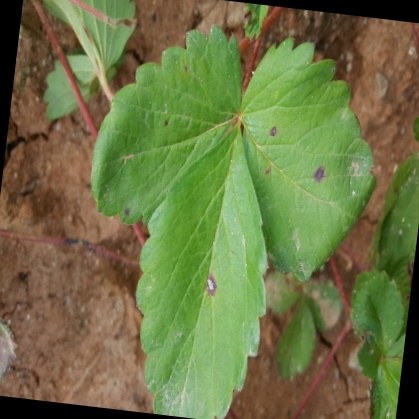Leaf_Spot: (145, 116, 279, 418), (229, 27, 374, 272), (87, 23, 240, 234), (271, 262, 313, 306)
